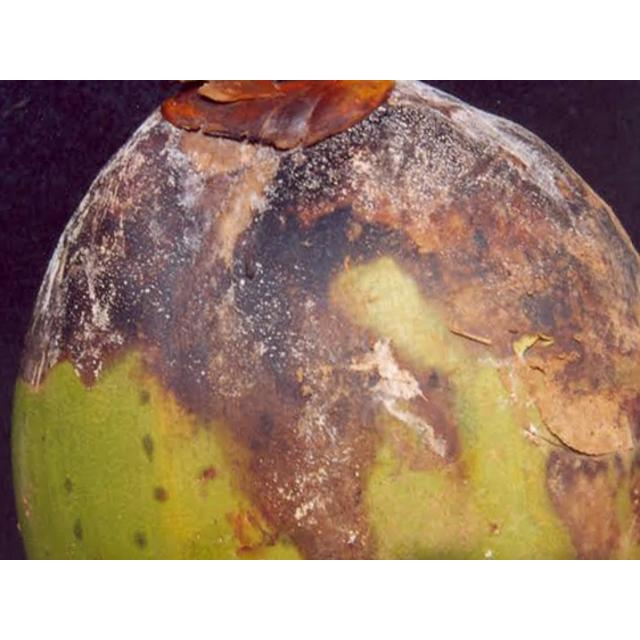damaged: (8, 80, 639, 559)
